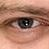eye: (18, 18, 33, 28)
